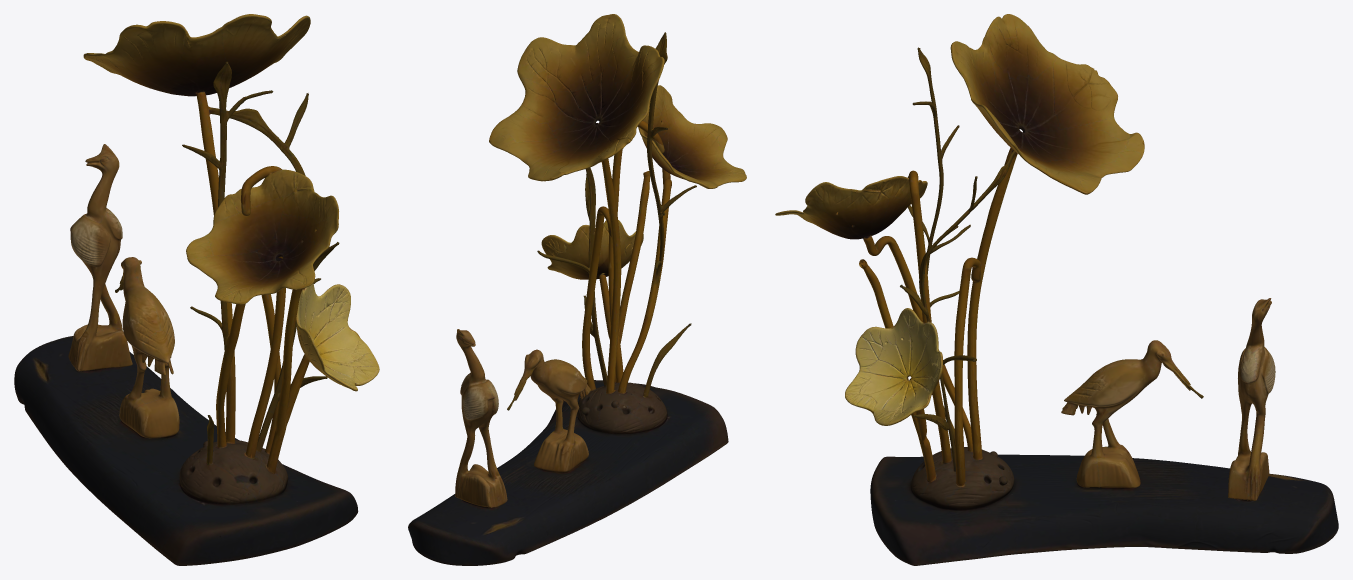
The model's file is bronze-bird.glb.
3 views of the same model, side by side, from view 1: azimuth 30°, elevation 25°; view 2: azimuth 150°, elevation 25°; view 3: azimuth 270°, elevation 25° (orthographic). The views are drawn at different scales.
Visible parts, largest first — view 1: tripo_node_311cc1fb-d057-49db-985c-64f71fa4d355; view 2: tripo_node_311cc1fb-d057-49db-985c-64f71fa4d355; view 3: tripo_node_311cc1fb-d057-49db-985c-64f71fa4d355.
Part boxes in pixels (x1,y1,x2,y2): tripo_node_311cc1fb-d057-49db-985c-64f71fa4d355: (14, 14, 379, 565); tripo_node_311cc1fb-d057-49db-985c-64f71fa4d355: (408, 14, 746, 565); tripo_node_311cc1fb-d057-49db-985c-64f71fa4d355: (775, 14, 1338, 565).
Bounding box in the file's own units: 0.3871 × 0.9269 × 0.9806.
1 material, 1 textured.
